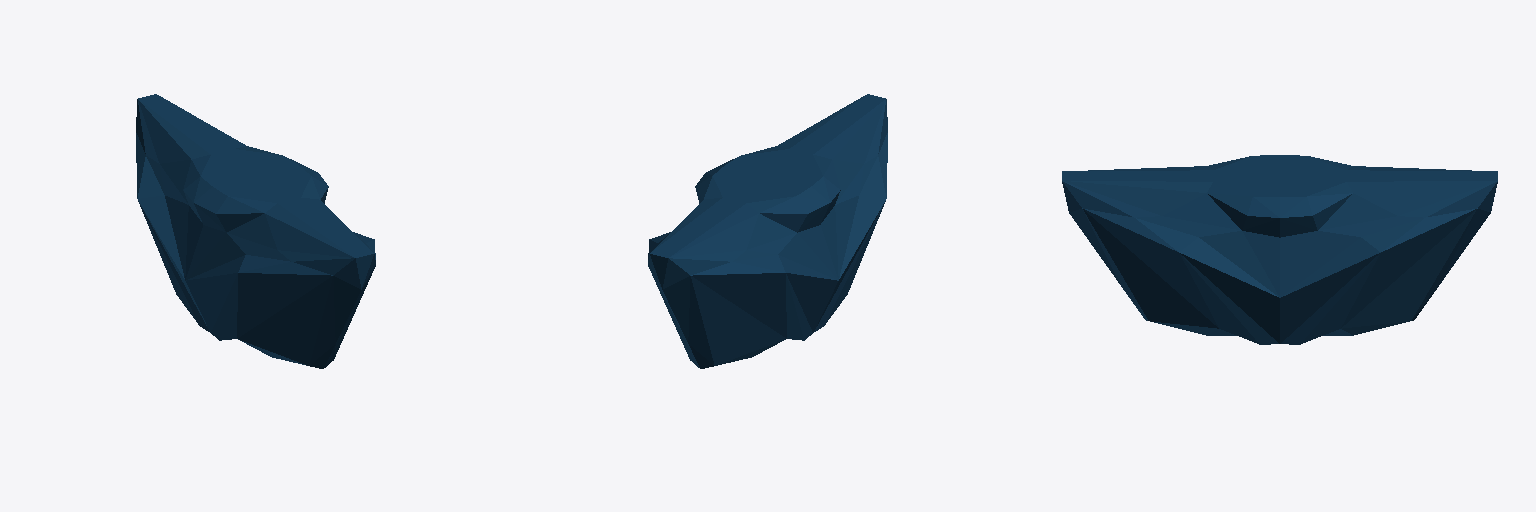
File: longboat.obj
The picture shows the model from 3 angles: view 1: azimuth 30°, elevation 25°; view 2: azimuth 150°, elevation 25°; view 3: azimuth 270°, elevation 25°; orthographic projection.
Parts seen in each view (by area): view 1: Longboat; view 2: Longboat; view 3: Longboat.
Boxes of the visible parts, <box> form: Longboat: <box>136,94,375,368</box>; Longboat: <box>648,94,887,368</box>; Longboat: <box>1062,155,1497,344</box>.
Size of the model in its own units: 0.749 by 0.8084 by 2.